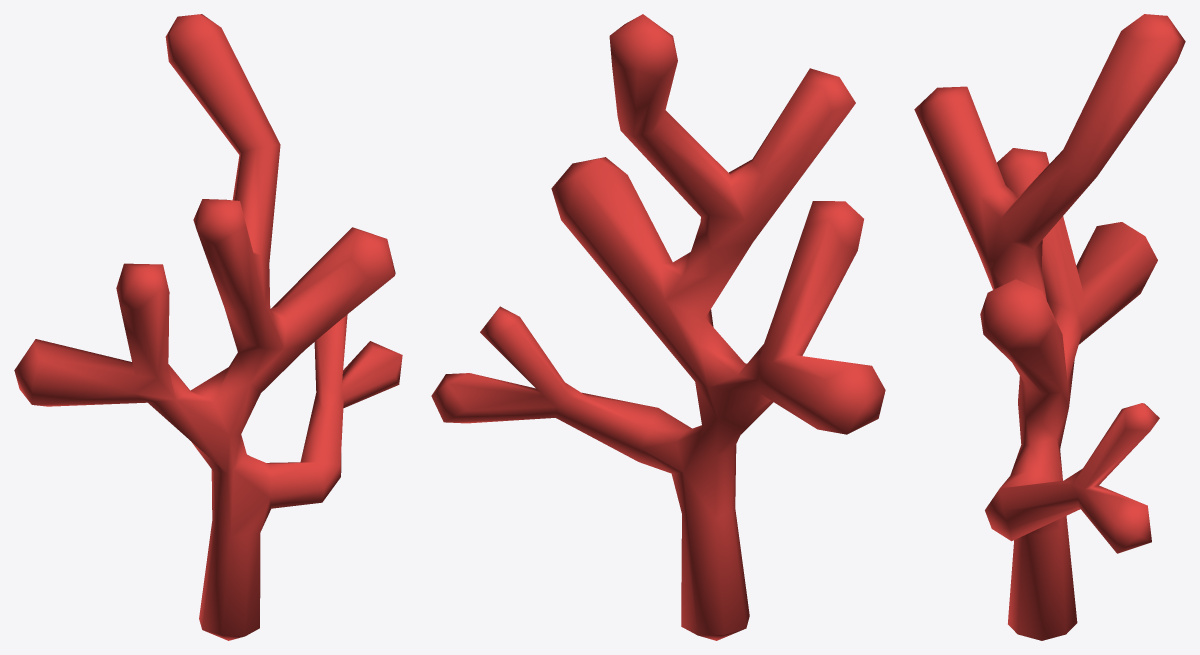
The model's file is D_CoralReef.111.glb.
3 views of the same model, side by side, from view 1: azimuth 30°, elevation 25°; view 2: azimuth 150°, elevation 25°; view 3: azimuth 270°, elevation 25° (orthographic). The views are drawn at different scales.
Visible parts, largest first — view 1: D_CoralReef.111; view 2: D_CoralReef.111; view 3: D_CoralReef.111.
Boxes of the visible parts, <box> form: D_CoralReef.111: <box>14,14,402,640</box>; D_CoralReef.111: <box>431,14,885,640</box>; D_CoralReef.111: <box>914,14,1185,640</box>.
Bounding box in the file's own units: 0.4645 × 0.6826 × 0.2637.
1 material, 1 textured.
